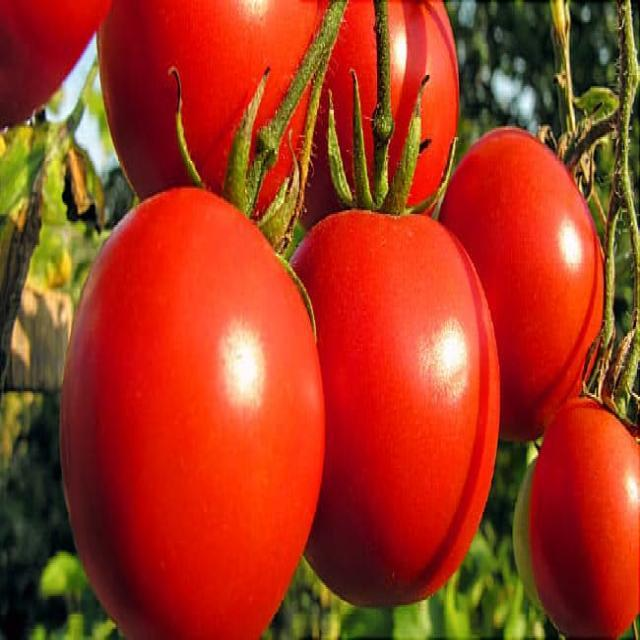kirmizi: (318, 62, 636, 604), (48, 180, 348, 620)
